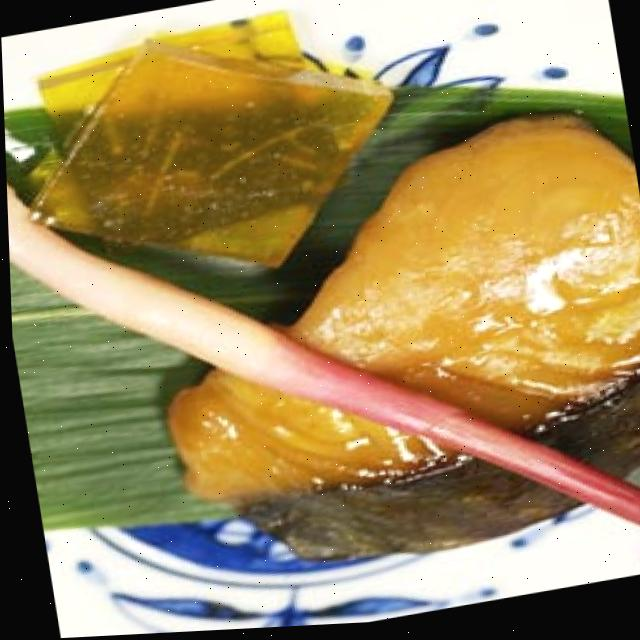熟制海鲜: (108, 95, 640, 617)
